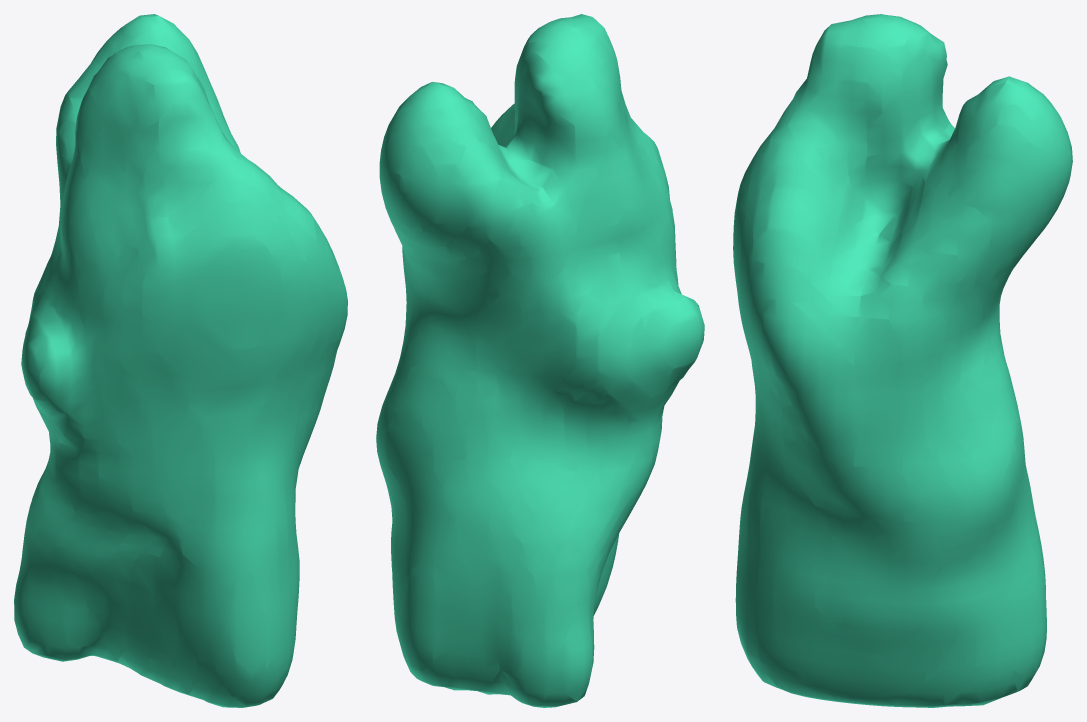
3 views of the same model, side by side, from view 1: azimuth 30°, elevation 25°; view 2: azimuth 150°, elevation 25°; view 3: azimuth 270°, elevation 25° (orthographic).
Parts seen in each view (by area): view 1: Liquid_Domain; view 2: Liquid_Domain; view 3: Liquid_Domain.
Boxes of the visible parts, x1,y1,x2,y2 form: Liquid_Domain: [14, 14, 347, 707]; Liquid_Domain: [376, 14, 704, 707]; Liquid_Domain: [733, 14, 1072, 707].
Size of the model in its own units: 2.93 by 6.23 by 2.97.
